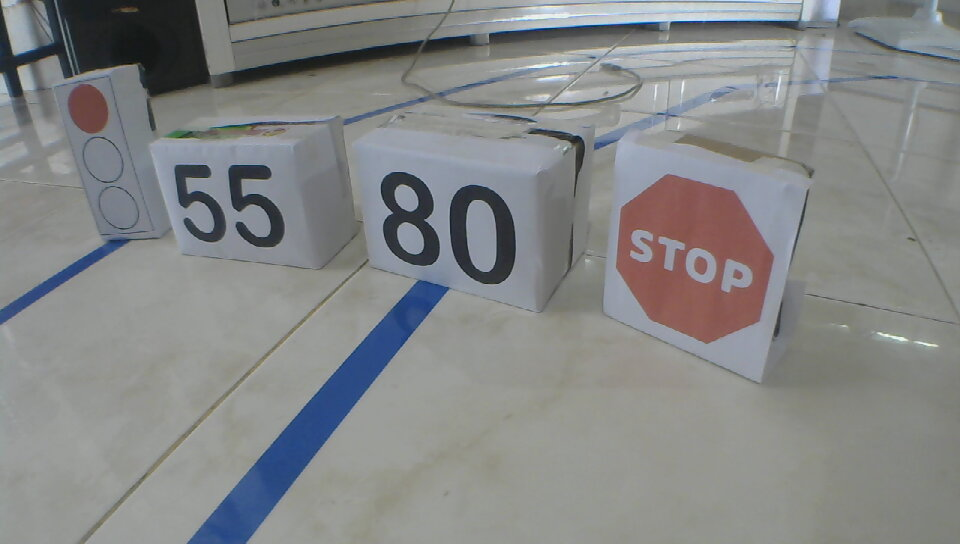Red Light: (66, 83, 141, 232)
Speed 55: (173, 160, 290, 250)
Speed 80: (375, 167, 521, 290)
Stop: (613, 172, 775, 346)
